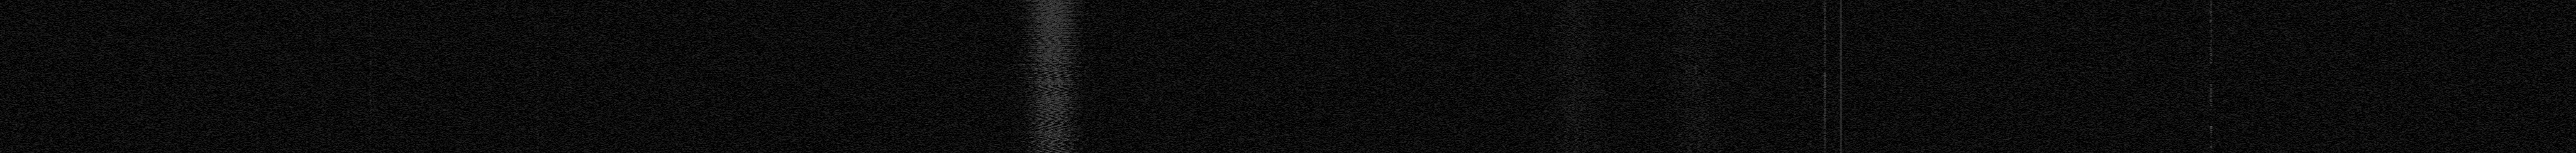wv_cw: (1840, 0, 1843, 153)
wv_lsb: (1822, 0, 1827, 153), (2208, 0, 2213, 66), (2208, 84, 2213, 122), (536, 100, 539, 153), (536, 39, 539, 79), (2208, 122, 2213, 148), (536, 20, 539, 39), (536, 0, 539, 18), (537, 79, 539, 87), (537, 94, 539, 99), (537, 87, 539, 92)
wv_usb: (368, 10, 373, 127), (1809, 130, 1812, 148), (1809, 97, 1812, 110), (1809, 72, 1812, 82), (370, 135, 373, 143), (1809, 118, 1812, 127), (1809, 112, 1812, 118), (1809, 82, 1812, 89), (1809, 66, 1812, 72), (1809, 148, 1812, 153), (1809, 90, 1812, 95), (370, 3, 373, 7), (370, 145, 371, 148), (370, 127, 371, 130), (1809, 63, 1812, 64), (1809, 28, 1812, 30), (370, 151, 371, 153)
wv_wbfm: (1009, 0, 1096, 153), (1539, 0, 1618, 153), (1658, 74, 1735, 135), (1664, 0, 1728, 30), (1666, 30, 1738, 53), (1671, 137, 1725, 153), (1681, 66, 1718, 74), (1669, 53, 1705, 61), (1667, 61, 1704, 66), (1661, 0, 1694, 3), (1661, 53, 1690, 56), (1672, 66, 1681, 74), (1702, 54, 1713, 59), (1702, 63, 1713, 66), (1702, 61, 1712, 63), (1538, 145, 1548, 146), (1713, 72, 1720, 74)
